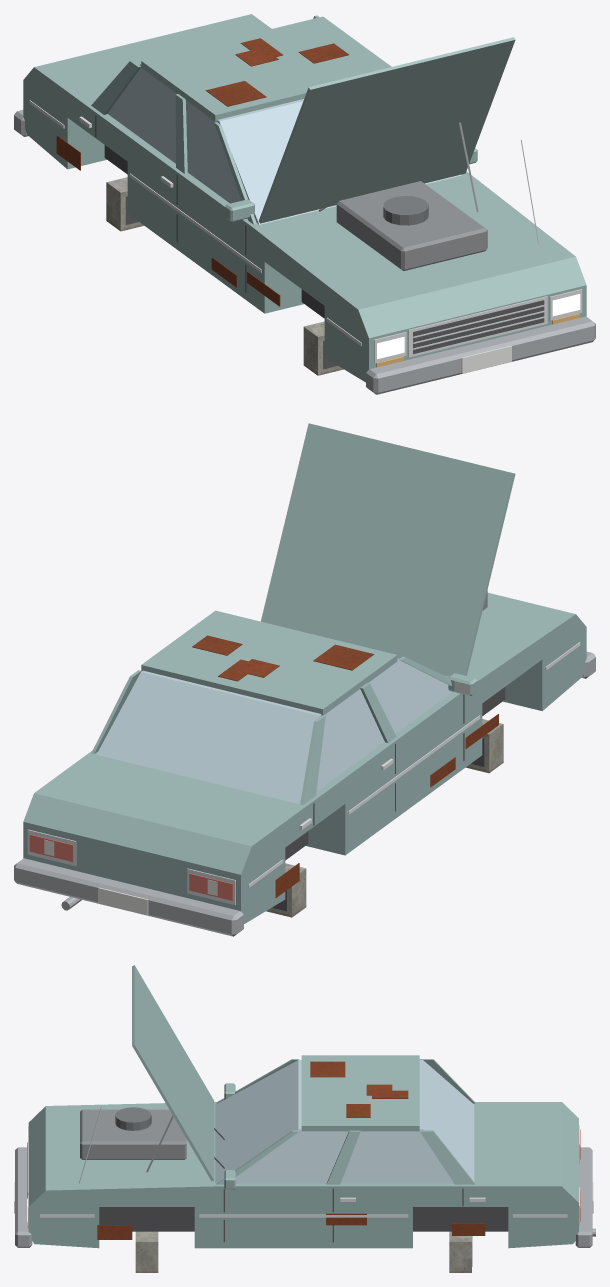
File: junk_sedan_t.glb
3 renders of one model, top to bottom at view 1: azimuth 30°, elevation 25°; view 2: azimuth 150°, elevation 25°; view 3: azimuth 270°, elevation 25°, orthographic. The views are drawn at different scales.
Parts seen in each view (by area): view 1: junk_sedan_t_car_t, junk_sedan_t_glass, junk_sedan_t_engine, junk_sedan_t_steel, junk_sedan_t_chrome, junk_sedan_t_rust, junk_sedan_t_dark, junk_sedan_t_block, junk_sedan_t_steel_d, junk_sedan_t_lamp_glass, junk_sedan_t_paint_w, junk_sedan_t_rubber; view 2: junk_sedan_t_car_t, junk_sedan_t_glass, junk_sedan_t_steel, junk_sedan_t_rust, junk_sedan_t_chrome, junk_sedan_t_block, junk_sedan_t_neon_r, junk_sedan_t_paint_w; view 3: junk_sedan_t_car_t, junk_sedan_t_glass, junk_sedan_t_engine, junk_sedan_t_rubber, junk_sedan_t_rust, junk_sedan_t_steel, junk_sedan_t_block, junk_sedan_t_chrome, junk_sedan_t_steel_d.
Boxes of the visible parts, x1,y1,x2,y2 form: junk_sedan_t_car_t: [23, 14, 586, 382]; junk_sedan_t_glass: [107, 64, 461, 224]; junk_sedan_t_engine: [336, 181, 487, 270]; junk_sedan_t_steel: [14, 110, 595, 394]; junk_sedan_t_chrome: [29, 100, 582, 363]; junk_sedan_t_rust: [56, 38, 348, 306]; junk_sedan_t_dark: [95, 115, 544, 369]; junk_sedan_t_block: [106, 177, 343, 375]; junk_sedan_t_steel_d: [383, 196, 428, 225]; junk_sedan_t_lamp_glass: [377, 294, 580, 358]; junk_sedan_t_paint_w: [461, 345, 511, 373]; junk_sedan_t_rubber: [104, 145, 324, 318]; junk_sedan_t_car_t: [23, 423, 586, 923]; junk_sedan_t_glass: [96, 658, 452, 804]; junk_sedan_t_steel: [14, 651, 595, 936]; junk_sedan_t_rust: [192, 635, 498, 897]; junk_sedan_t_chrome: [27, 642, 580, 904]; junk_sedan_t_block: [266, 719, 503, 917]; junk_sedan_t_neon_r: [29, 834, 232, 900]; junk_sedan_t_paint_w: [44, 839, 217, 915]; junk_sedan_t_car_t: [28, 965, 578, 1248]; junk_sedan_t_glass: [215, 1060, 474, 1183]; junk_sedan_t_engine: [80, 1109, 186, 1159]; junk_sedan_t_rubber: [99, 1207, 508, 1231]; junk_sedan_t_rust: [97, 1061, 485, 1239]; junk_sedan_t_steel: [15, 1115, 595, 1247]; junk_sedan_t_block: [135, 1231, 471, 1272]; junk_sedan_t_chrome: [27, 1106, 579, 1225]; junk_sedan_t_steel_d: [115, 1107, 151, 1130].
Bounding box in the file's own units: 2 × 2.25 × 5.12.
16 materials, 2 textured.
